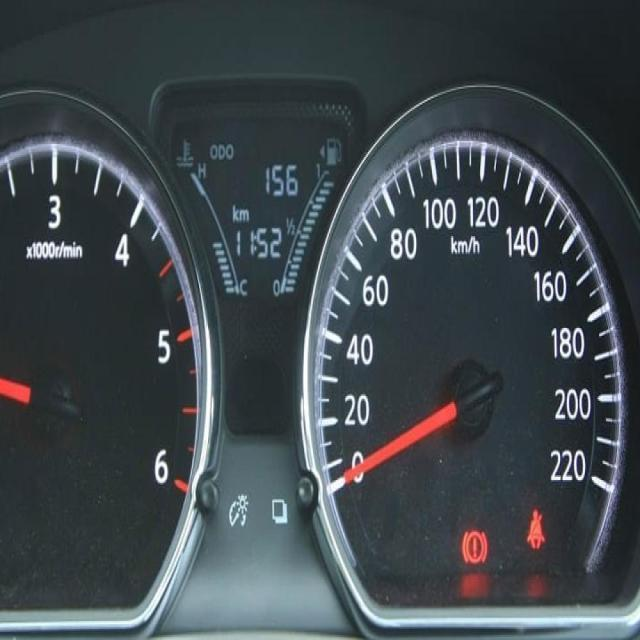Seat Belt: (525, 508, 546, 550)
